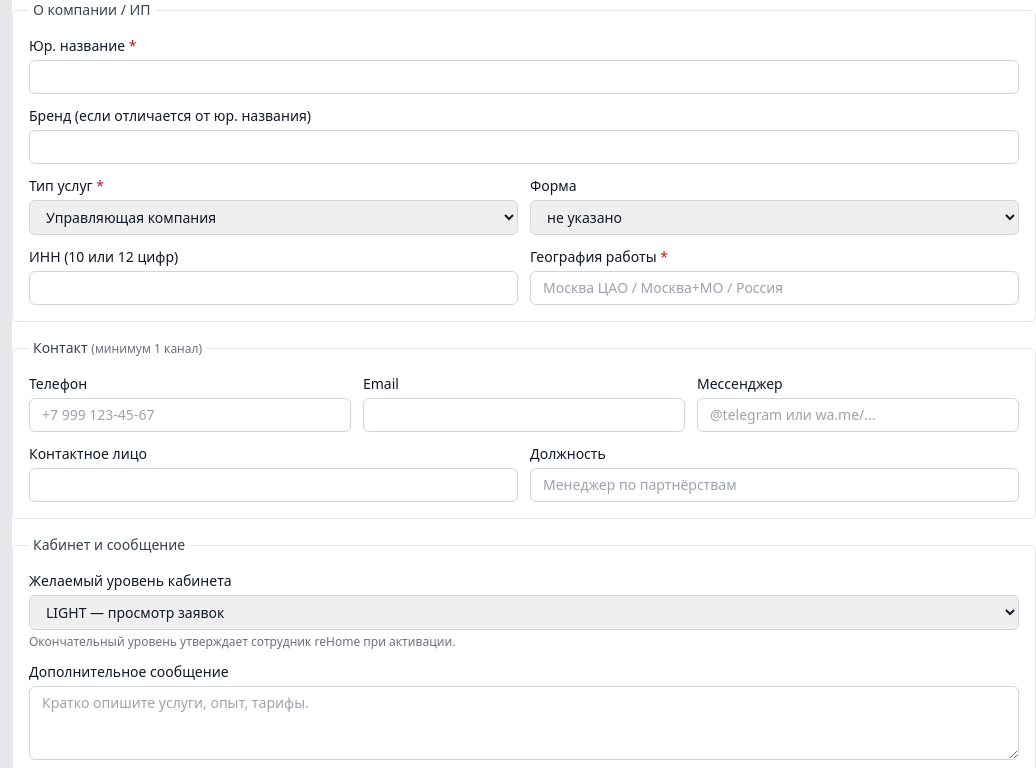
Scenario: OnboardingForm › 429 → отдельное сообщение о rate-limit
This screenshot has width=1036, height=768.
In the field labelled "Юр. название *": coordinates (524, 77) [29,60,1019,94], type "ООО Тест"
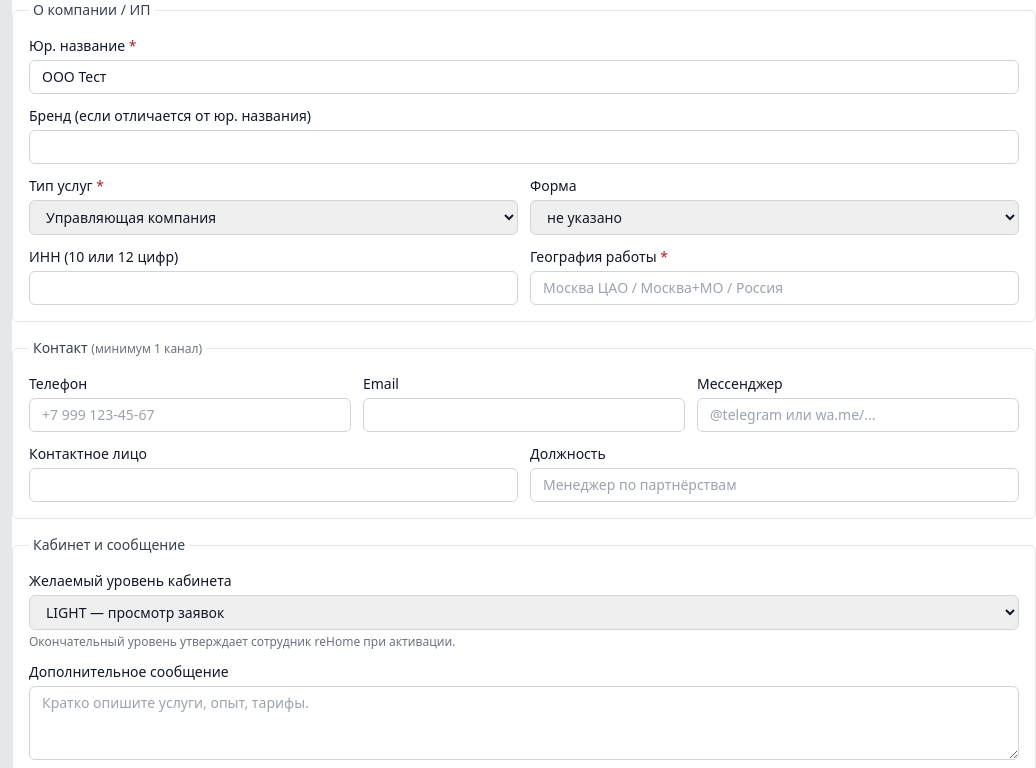
In the field labelled "География работы *": coordinates (774, 288) [530,271,1019,305], type "Москва"
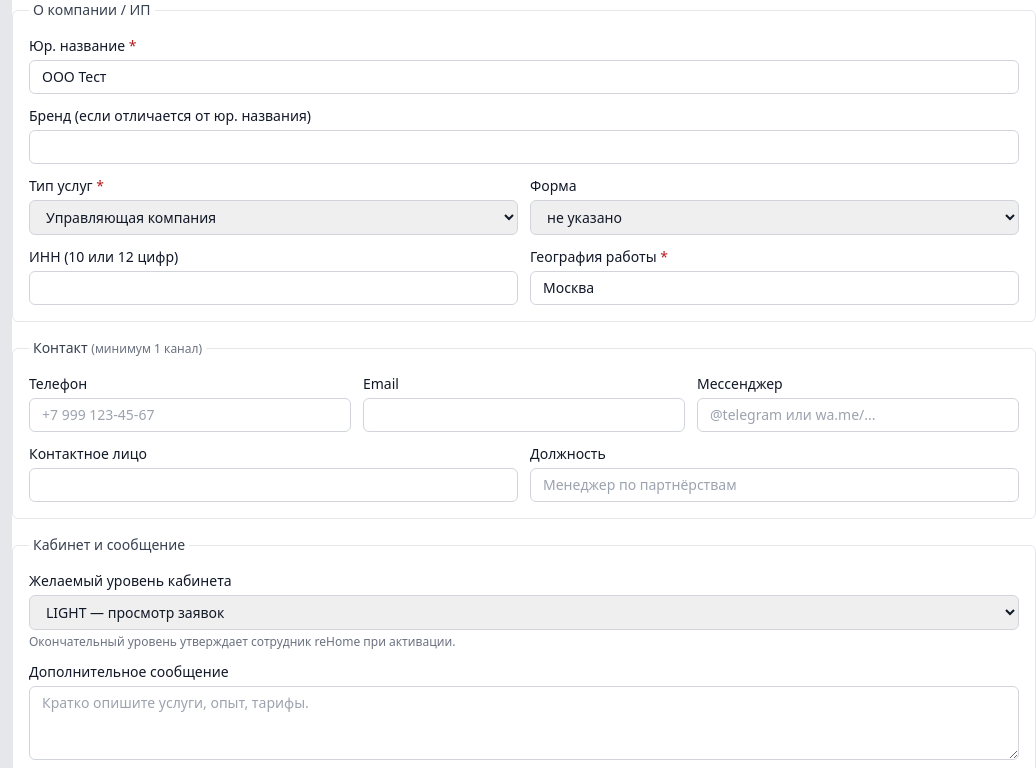
In the field labelled "Телефон": coordinates (190, 415) [29,398,351,432], type "+71234567890"
(page scrolled)
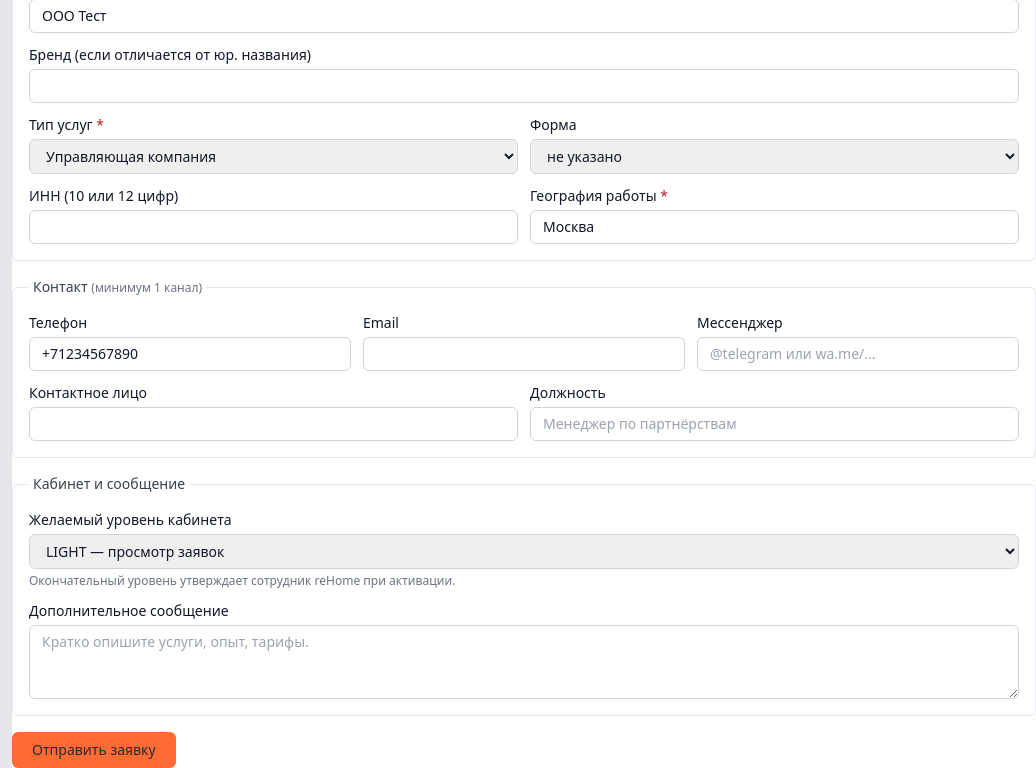
Submit the form from the button "Отправить заявку", box [12,732,176,767]
(page scrolled)
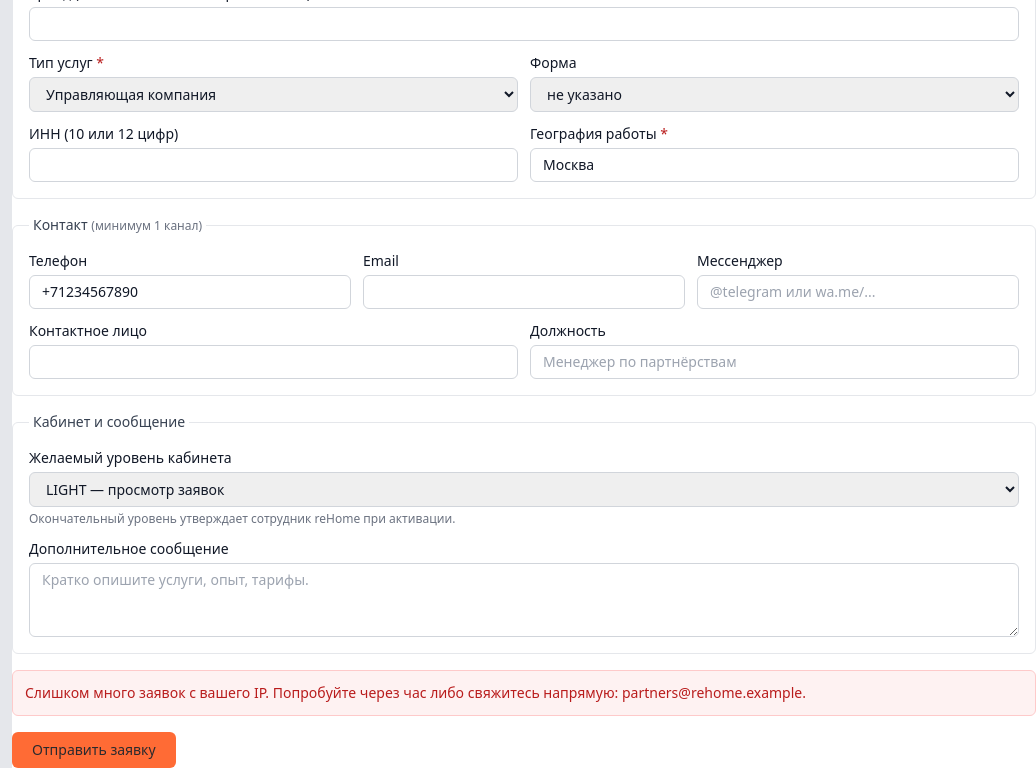
Now the message shows "Слишком много заявок", box [25,683,806,702]
